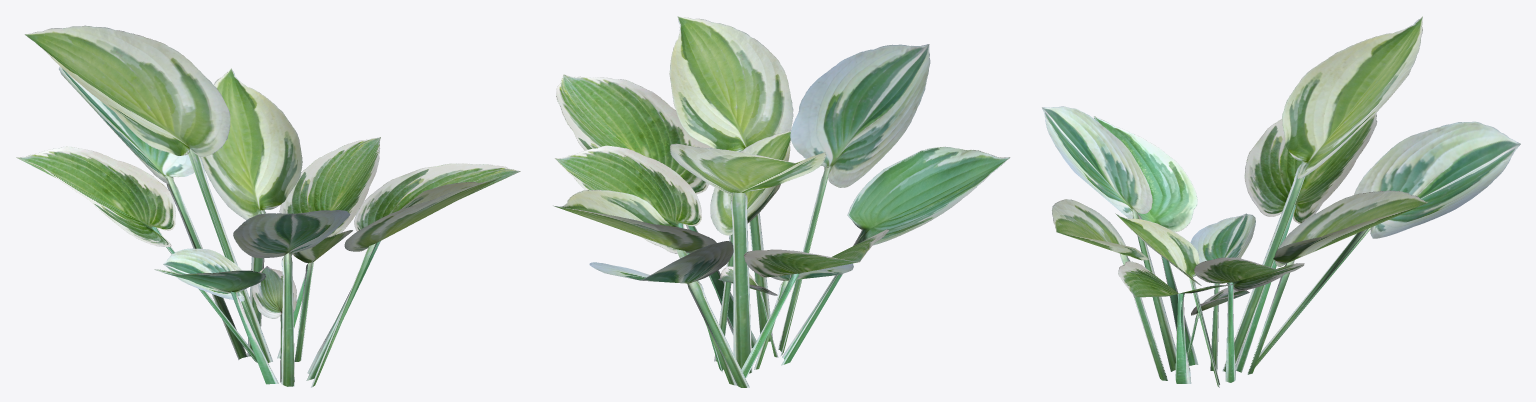
Rendered from plant_small_wg_00AA_wild.fbx.
3 views of the same model, side by side, from view 1: azimuth 30°, elevation 25°; view 2: azimuth 150°, elevation 25°; view 3: azimuth 270°, elevation 25° (orthographic). The views are drawn at different scales.
Parts seen in each view (by area): view 1: plant_small_wg_00AA_wild; view 2: plant_small_wg_00AA_wild; view 3: plant_small_wg_00AA_wild.
Boxes of the visible parts, x1,y1,x2,y2 form: plant_small_wg_00AA_wild: (16, 25, 520, 387); plant_small_wg_00AA_wild: (553, 16, 1010, 387); plant_small_wg_00AA_wild: (1042, 16, 1520, 387).
Size of the model in its own units: 78.77 by 57.62 by 86.6.
